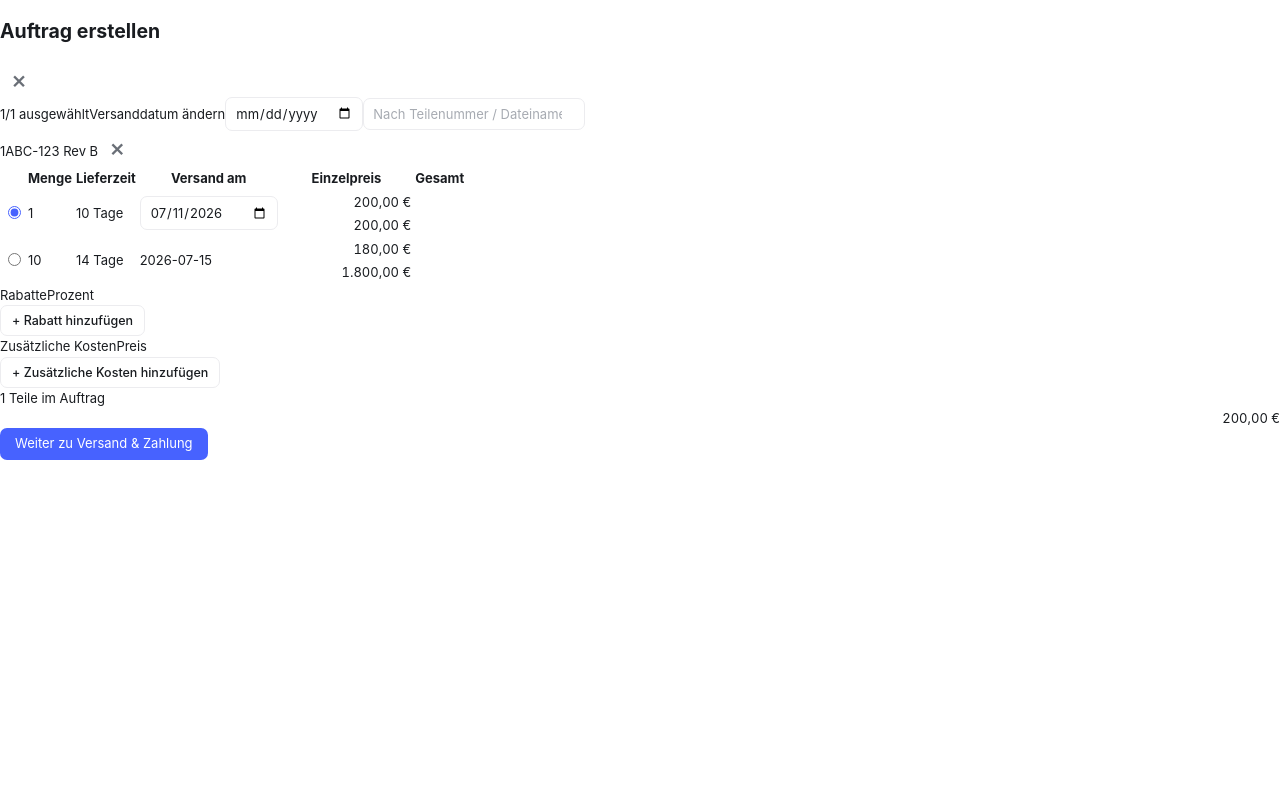
Test: FacilitateOrderDrawer › excludes a removed line from the order
Click the button named "Position entfernen" at {"x": 117, "y": 148}, box [98,131,136,165]
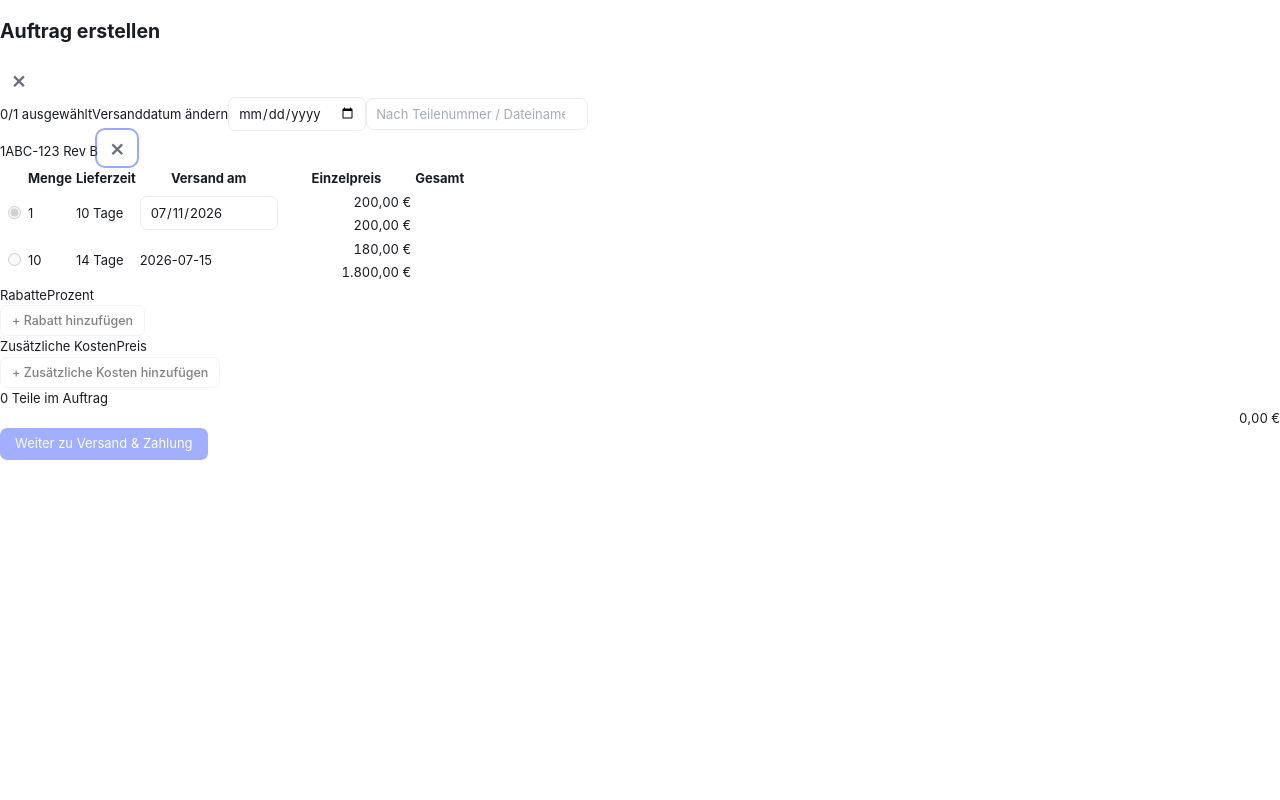
expect the button "Weiter zu Versand & Zahlung" is disabled: met, box [0,428,208,460]
